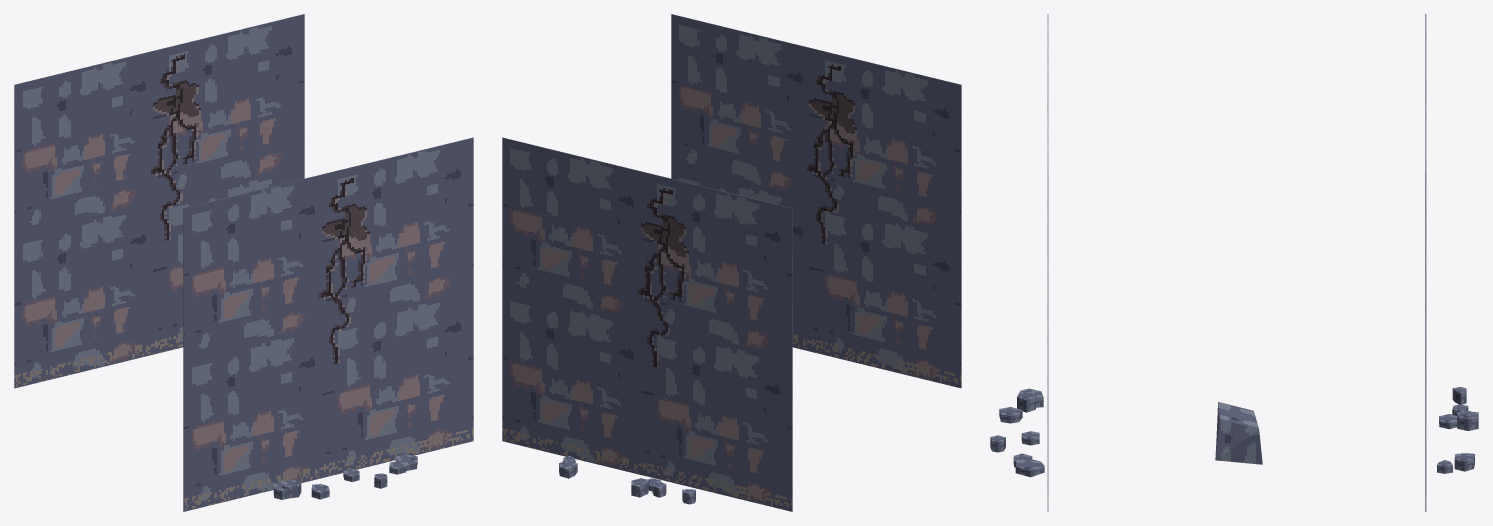
The model's file is cracked_wall_c.glb.
3 renders of one model, left to right at view 1: azimuth 30°, elevation 25°; view 2: azimuth 150°, elevation 25°; view 3: azimuth 270°, elevation 25°, orthographic. The views are drawn at different scales.
Parts seen in each view (by area): view 1: panel_front, panel_back, debris_front; view 2: panel_back, panel_front, debris_back; view 3: chunk, debris_front, debris_back, panel_back, panel_front.
Boxes of the visible parts, box(x1,y1,x2,y2) form: panel_front: box(183, 137, 473, 511); panel_back: box(14, 14, 304, 388); debris_front: box(273, 454, 417, 499); panel_back: box(502, 137, 792, 511); panel_front: box(671, 14, 961, 388); debris_back: box(559, 455, 695, 504); chunk: box(1215, 402, 1262, 464); debris_front: box(990, 388, 1044, 477); debris_back: box(1437, 387, 1478, 473); panel_back: box(1425, 14, 1426, 511); panel_front: box(1047, 14, 1048, 511).
Bounding box in the file's own units: 2 × 2.14 × 2.61.
Materials: 1 (1 with a texture image).
